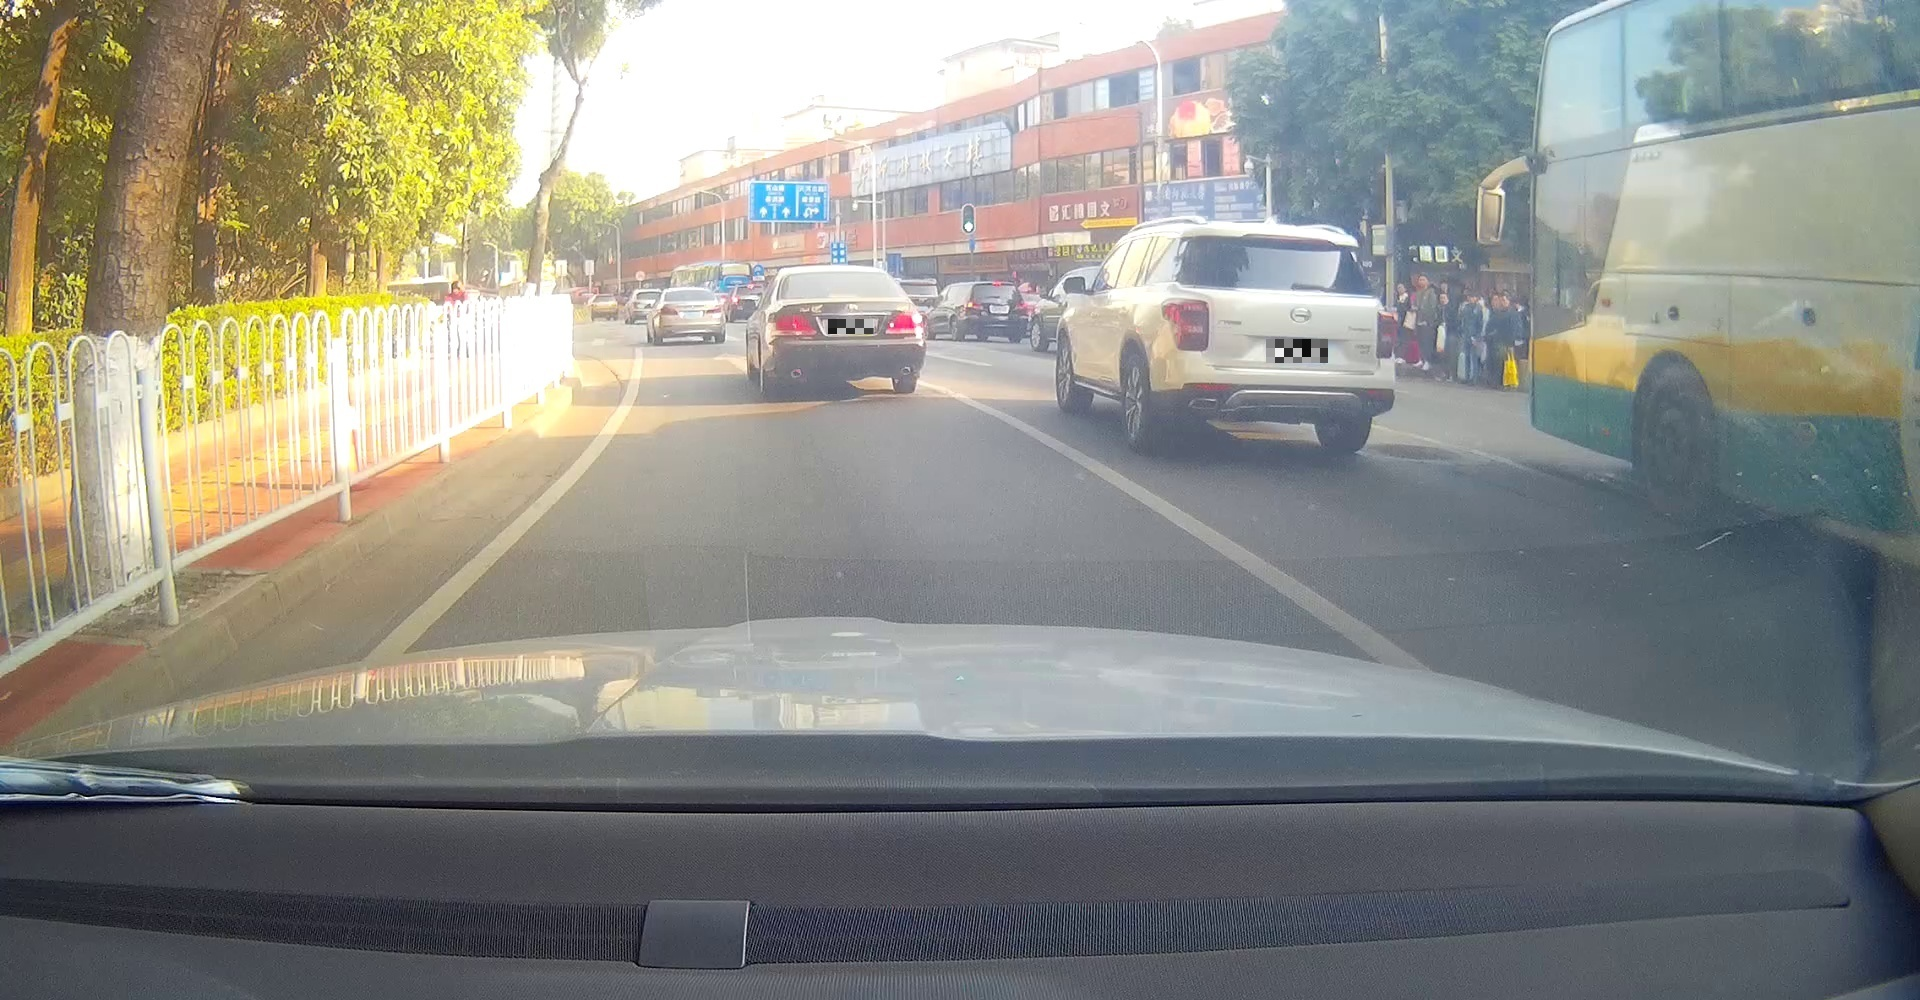L_light: (1161, 298, 1209, 352), (770, 313, 817, 336), (659, 306, 678, 316), (966, 302, 984, 310)
R_light: (1375, 310, 1396, 359), (885, 312, 923, 334), (705, 305, 721, 313), (1012, 302, 1029, 310)
T_light: (1253, 237, 1294, 247), (828, 293, 858, 298), (990, 283, 1001, 287), (682, 291, 696, 293)
day-brake: (965, 280, 1029, 343)
day-no: (1161, 221, 1397, 452), (770, 264, 923, 395), (659, 287, 723, 343)
plate_1: (828, 319, 874, 334)
plate_2: (1266, 339, 1328, 363)
